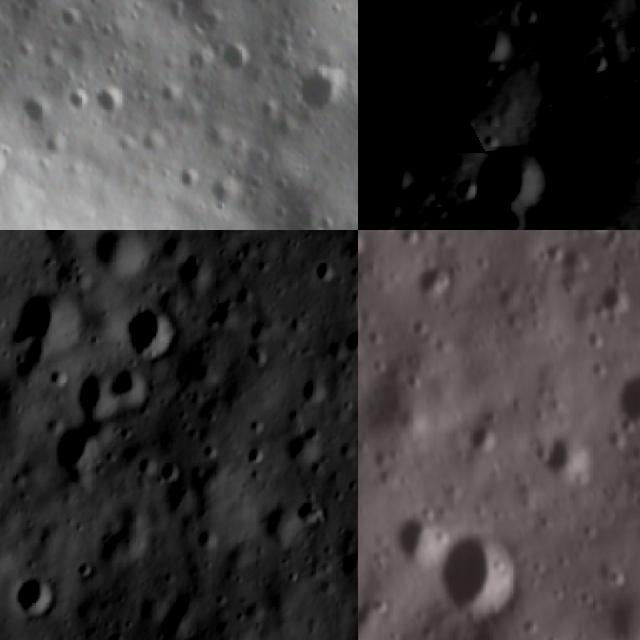crater: (442, 525, 524, 620), (464, 136, 558, 207), (14, 286, 88, 367), (49, 416, 109, 474), (124, 298, 183, 356), (89, 230, 155, 278), (544, 431, 597, 482), (261, 496, 314, 546), (292, 68, 346, 117), (16, 570, 65, 620), (156, 582, 200, 636), (393, 522, 449, 563), (462, 23, 514, 67), (73, 366, 117, 417), (109, 360, 150, 410), (468, 410, 508, 460), (11, 93, 54, 138), (422, 258, 457, 306), (472, 206, 538, 230), (381, 157, 418, 197), (181, 245, 215, 288), (299, 364, 336, 402), (92, 84, 127, 124), (295, 488, 332, 525), (598, 279, 635, 316), (205, 173, 242, 209), (577, 45, 613, 82), (620, 365, 640, 427), (510, 0, 549, 30), (386, 109, 420, 142), (220, 40, 251, 76), (315, 247, 346, 281), (33, 230, 94, 245), (172, 168, 202, 196), (358, 597, 378, 637), (197, 522, 226, 549), (64, 90, 92, 117), (160, 453, 185, 480), (136, 448, 160, 475), (248, 441, 270, 467), (80, 554, 98, 582), (176, 628, 216, 640), (102, 624, 131, 640), (345, 320, 358, 352), (358, 230, 371, 260), (404, 230, 425, 248), (0, 148, 9, 185), (99, 0, 122, 7)
